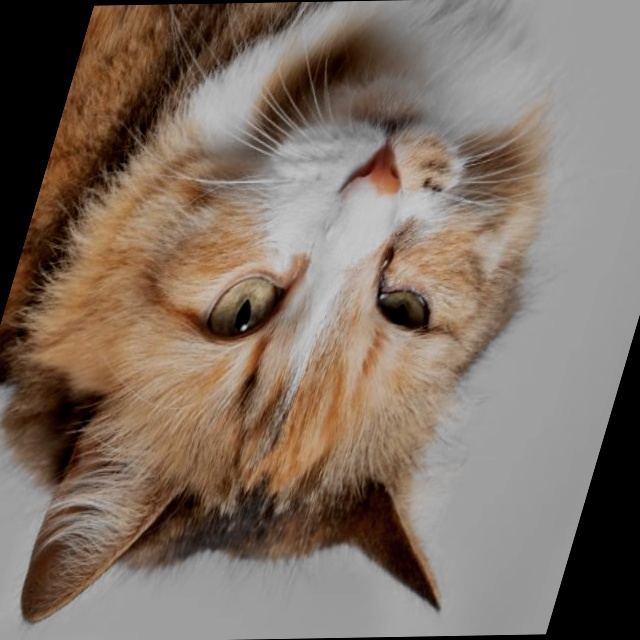eye_infection: (356, 248, 444, 338)
